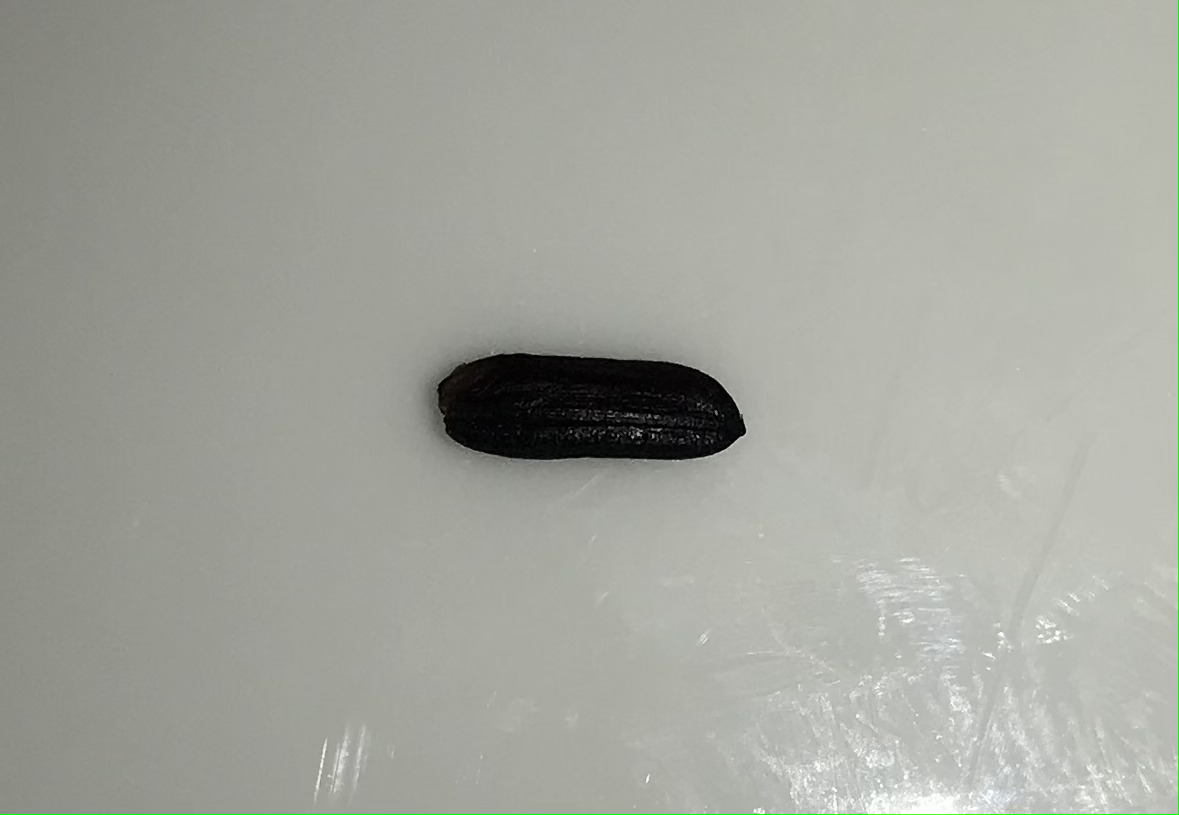Gao lut: (433, 349, 752, 466)
